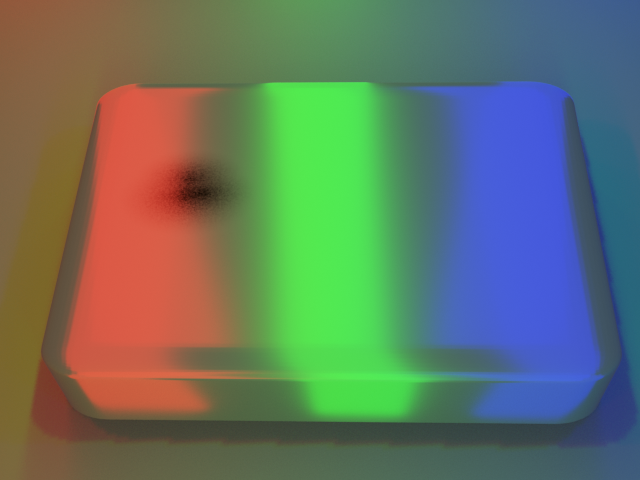stain: (68, 129, 279, 248)
